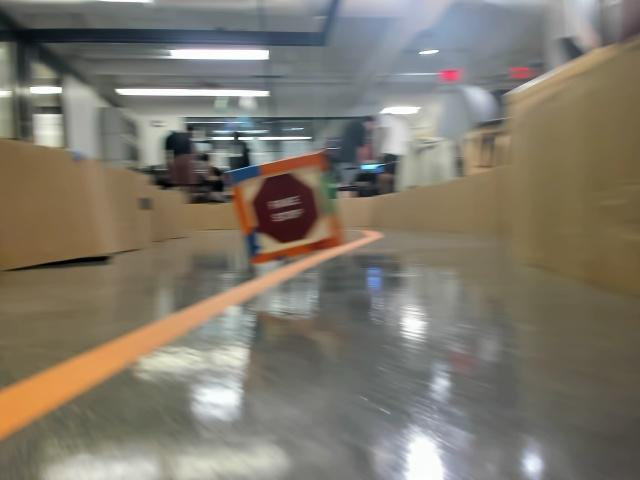Fake Stop: (246, 183, 308, 251)
